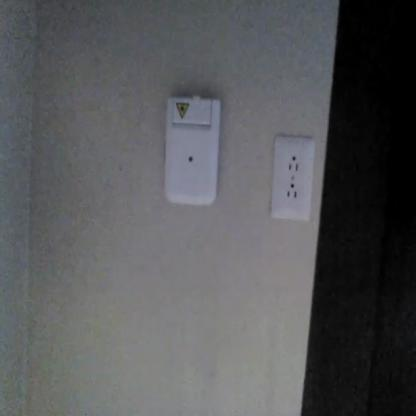OUTLET: (271, 138, 314, 221)
